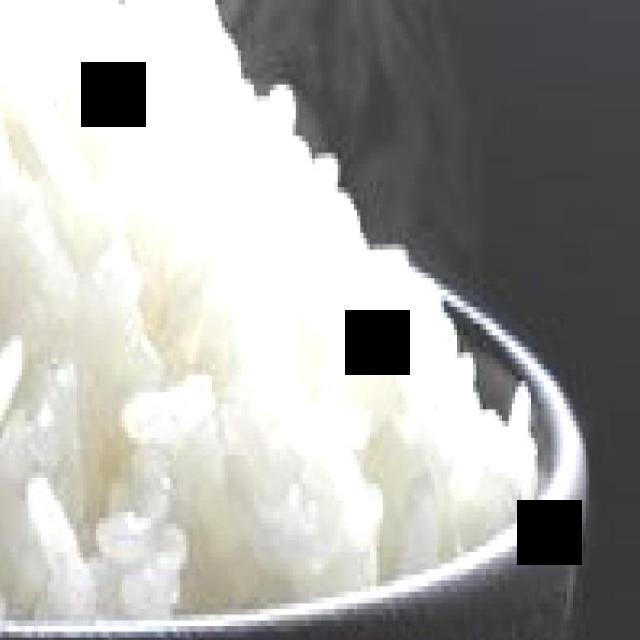rice: (0, 0, 535, 617)
